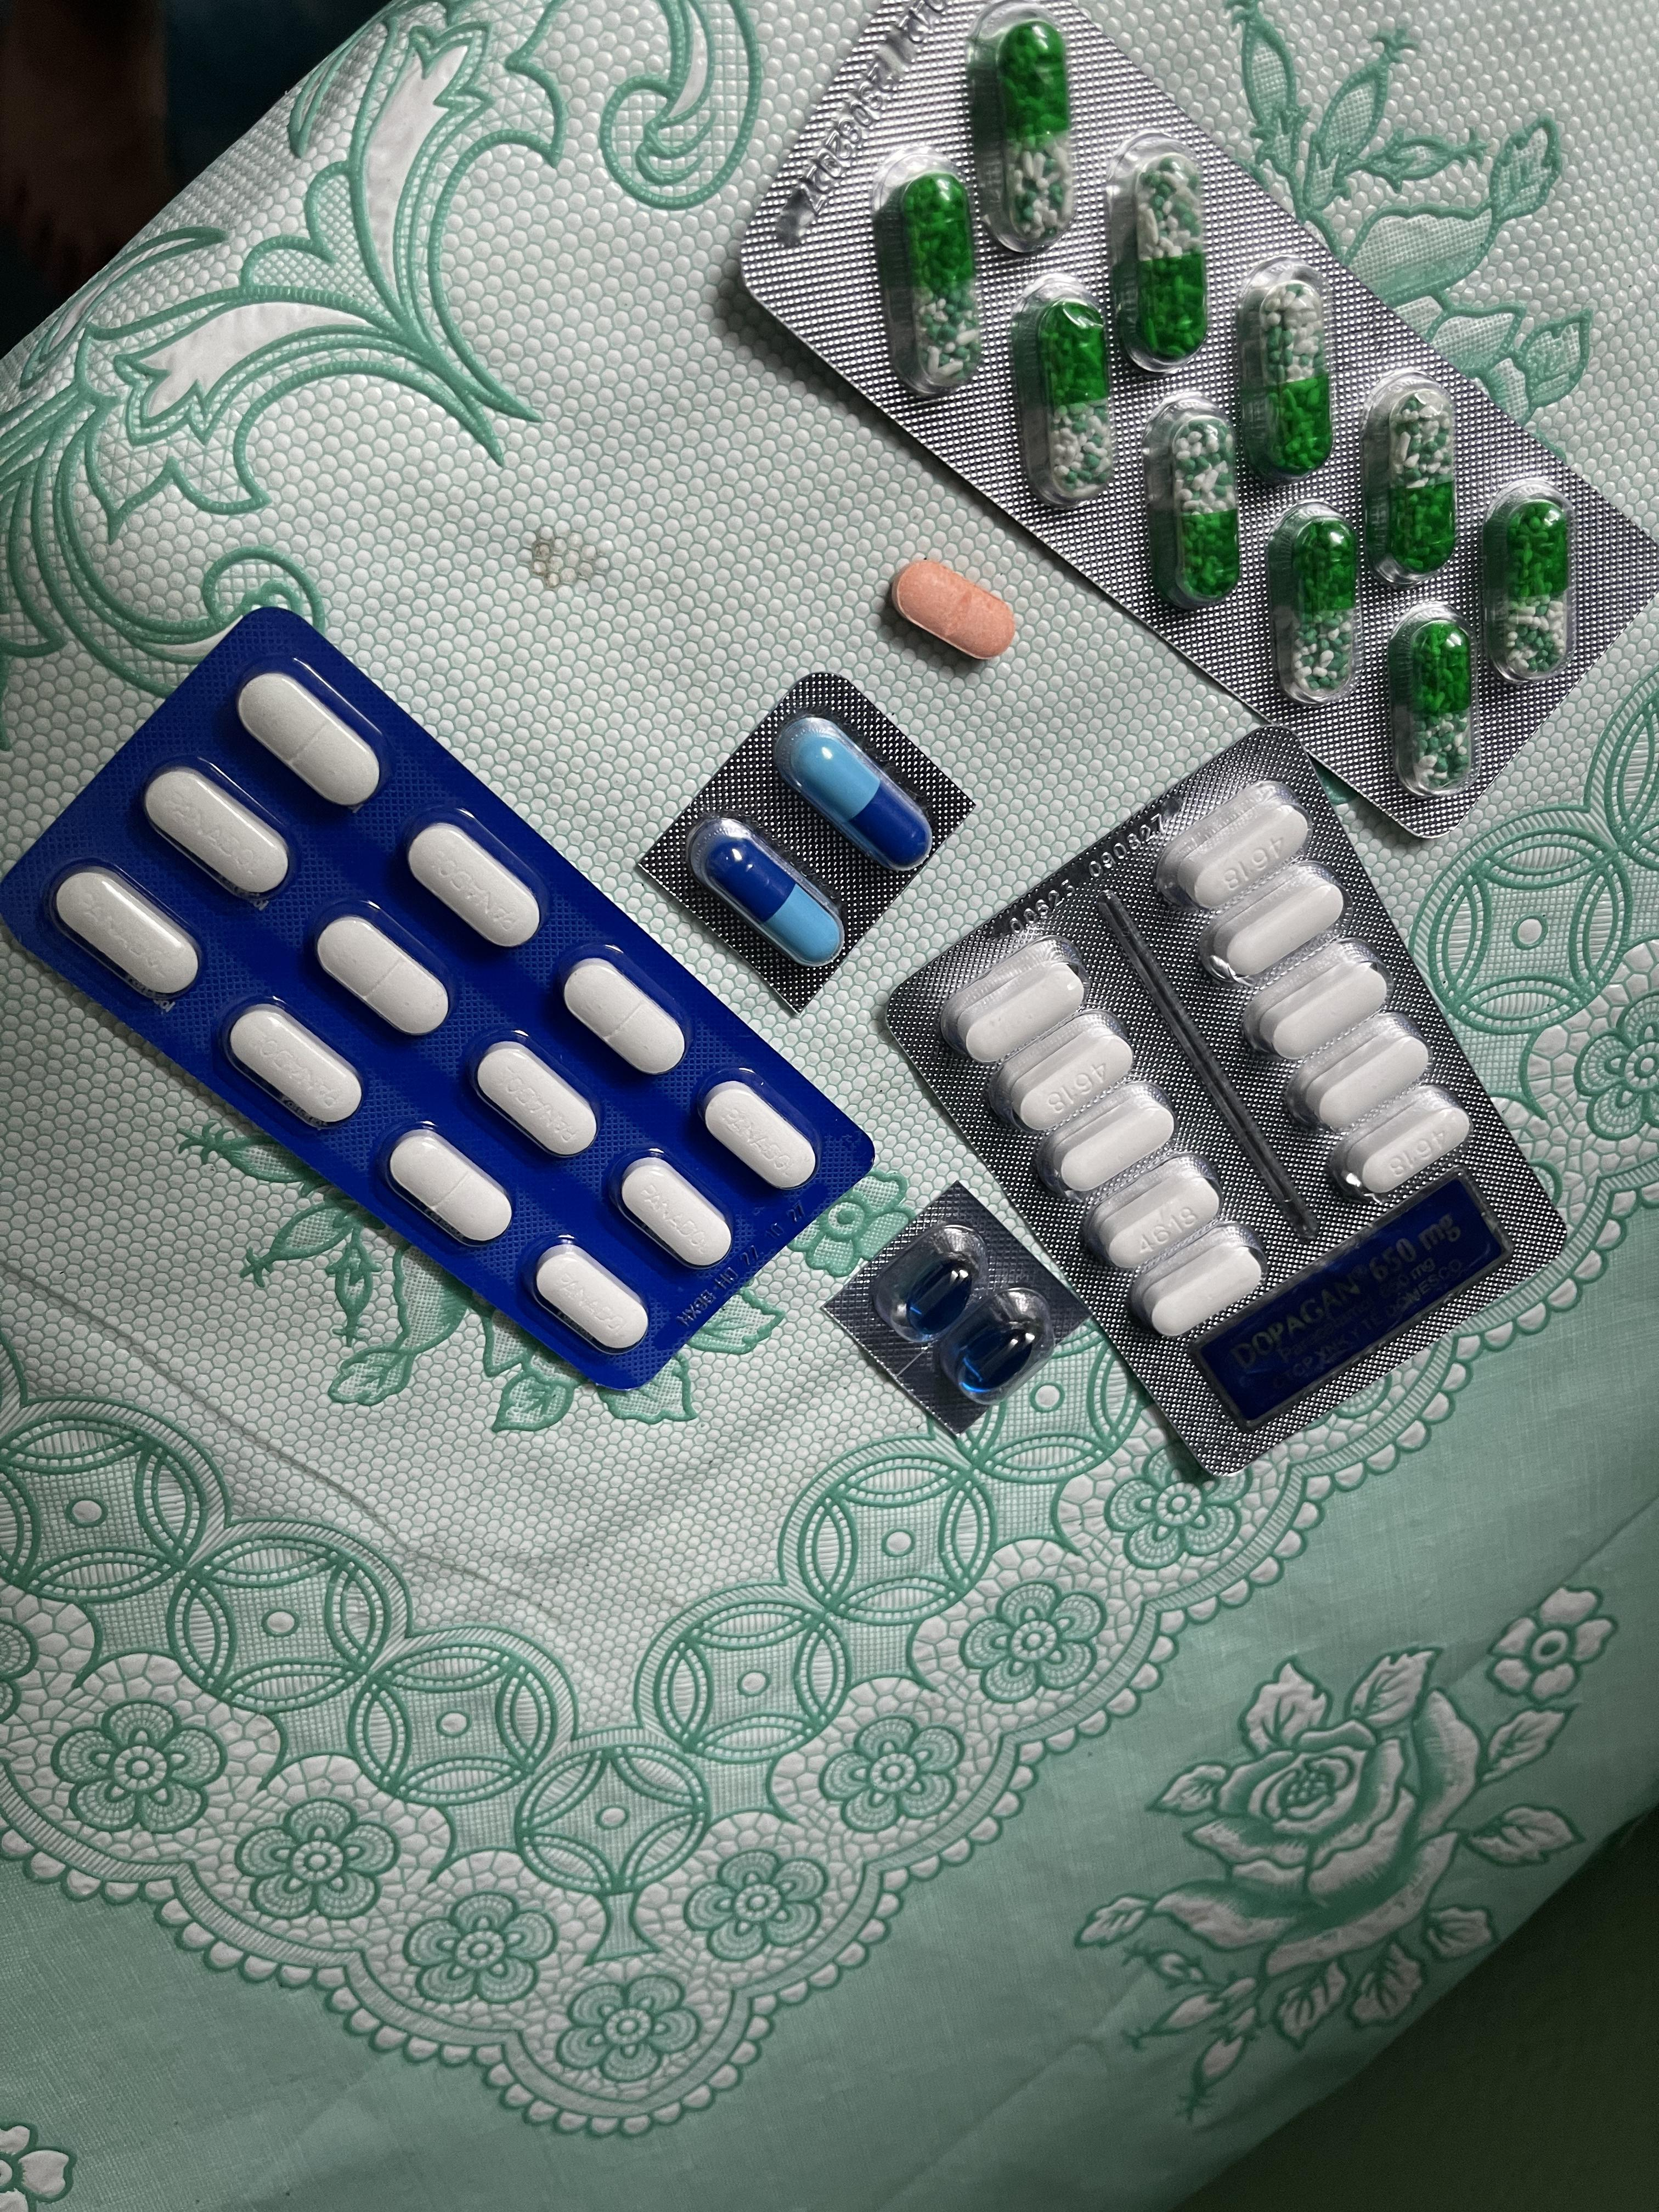Lincomyxin_500mg: (958, 1320, 1040, 1395), (899, 1258, 976, 1334)
Loratadine_10mg: (892, 561, 1018, 662)
Paracetamol_350mg: (143, 765, 295, 904), (52, 866, 202, 1003), (239, 672, 383, 810), (404, 820, 544, 951), (225, 1003, 362, 1130), (315, 913, 451, 1038), (558, 953, 688, 1075), (471, 1038, 598, 1158), (387, 1129, 511, 1244), (613, 1155, 734, 1270), (699, 1082, 821, 1195), (532, 1242, 650, 1353)
Paracetamol_500mg: (995, 1022, 1145, 1151), (1155, 784, 1302, 907), (946, 946, 1089, 1069), (1331, 1090, 1473, 1204), (1253, 954, 1392, 1068), (1208, 871, 1344, 984), (1089, 1153, 1229, 1263), (1042, 1092, 1182, 1200), (1297, 1028, 1434, 1134), (1138, 1240, 1262, 1339)
Paracetamol_650mg: (976, 3, 1079, 253), (880, 152, 983, 399), (1014, 284, 1115, 510), (1145, 395, 1243, 611), (1241, 268, 1337, 481), (1270, 510, 1364, 705), (1385, 610, 1474, 786), (1133, 153, 1206, 362), (1488, 502, 1572, 676), (1384, 392, 1453, 571)
pill: (782, 714, 938, 869), (697, 812, 845, 965)
